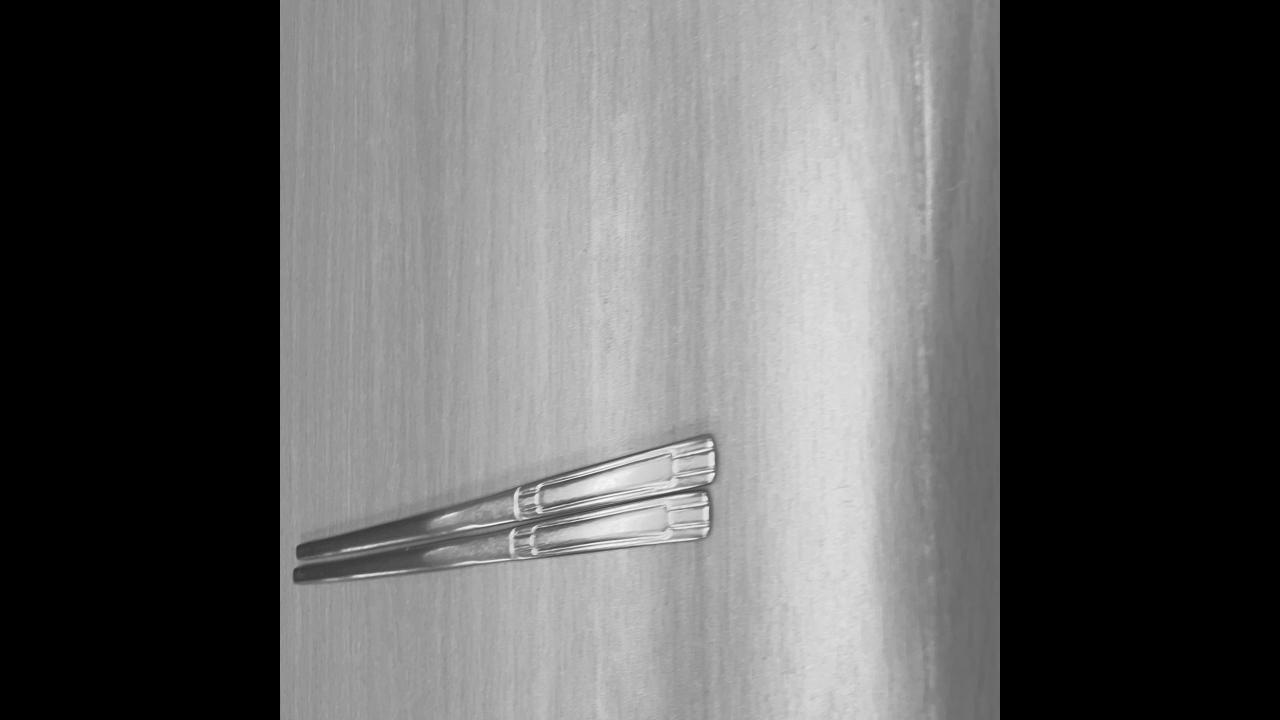chopstick: (294, 435, 716, 583)
